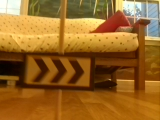right: (23, 53, 92, 87)
